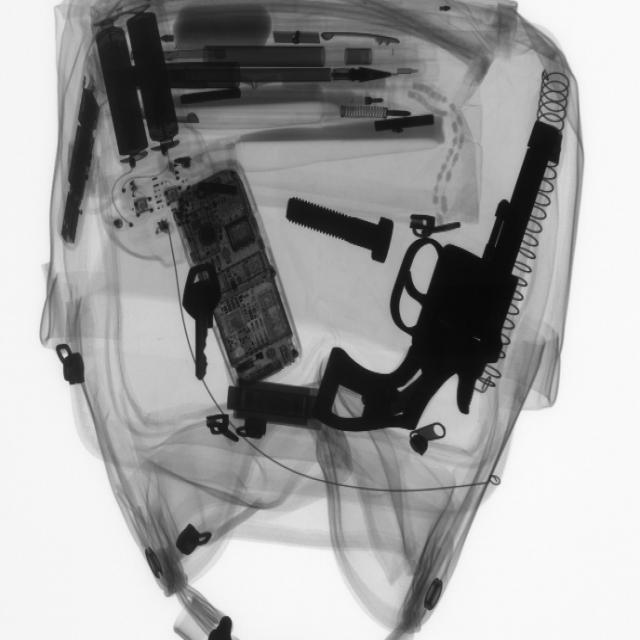GUN: (310, 132, 568, 438)
